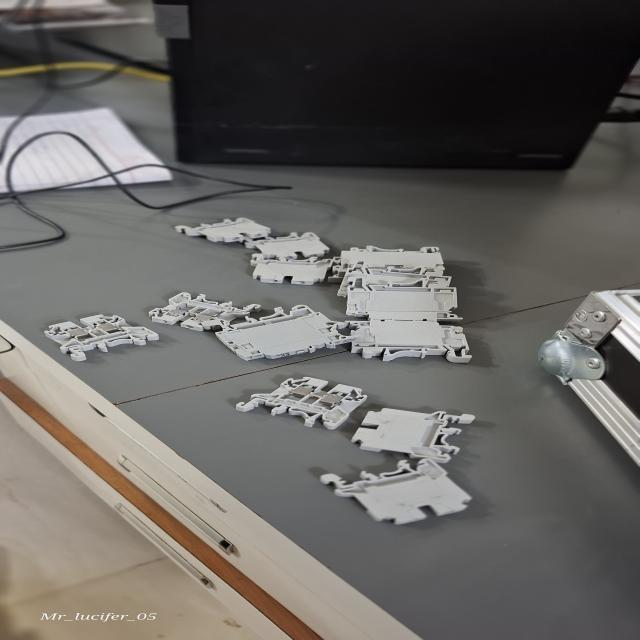Inverted: (312, 458, 483, 528), (350, 396, 478, 463), (167, 215, 274, 243), (240, 230, 336, 260), (248, 254, 328, 286)
Pass: (228, 375, 376, 427), (40, 310, 166, 364), (144, 290, 267, 332)
